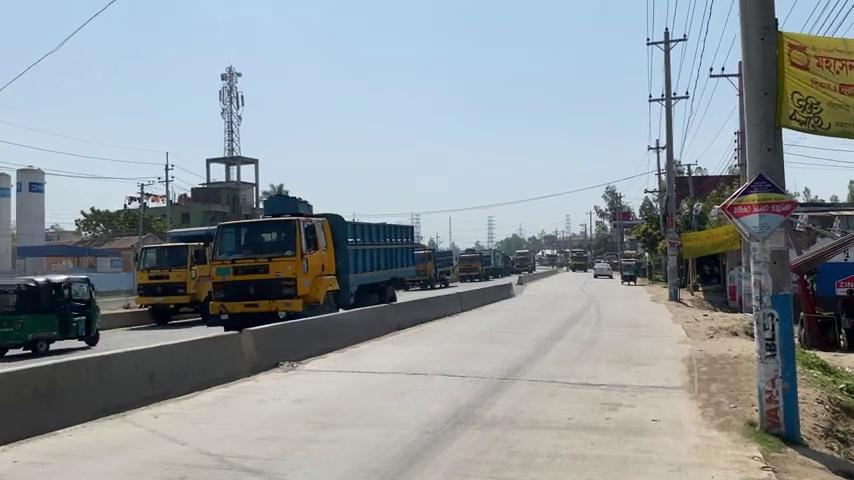Fence: (836, 288, 853, 351)
Garbage: (736, 0, 803, 444), (646, 26, 689, 300)
Rickshaw: (204, 201, 411, 341), (0, 274, 101, 357), (133, 226, 217, 325), (789, 231, 853, 351), (403, 247, 452, 290), (457, 249, 487, 282), (619, 258, 638, 284)
